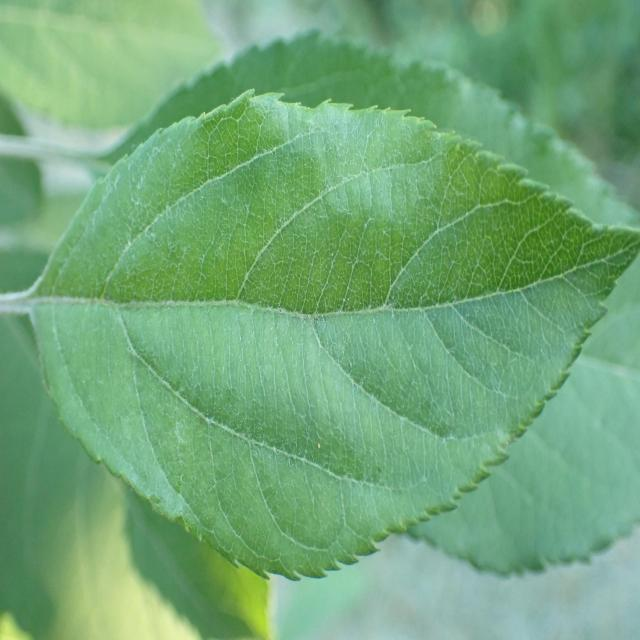healthy: (31, 88, 640, 585)
